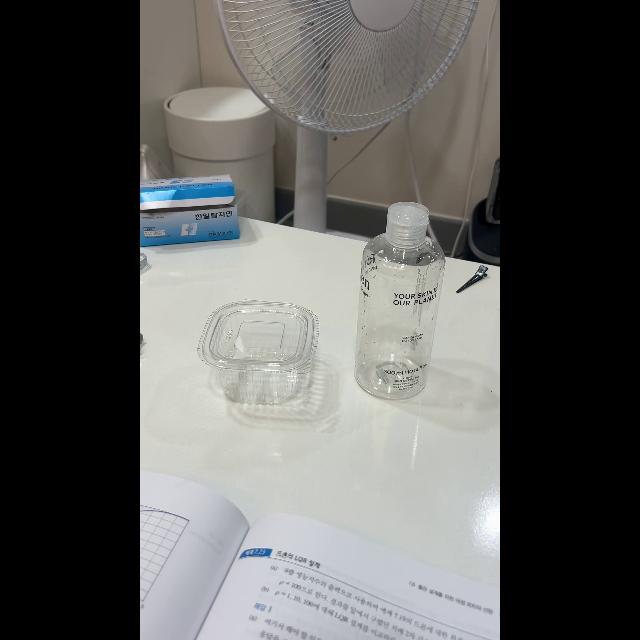clean: (354, 206, 448, 394), (198, 300, 320, 406)
